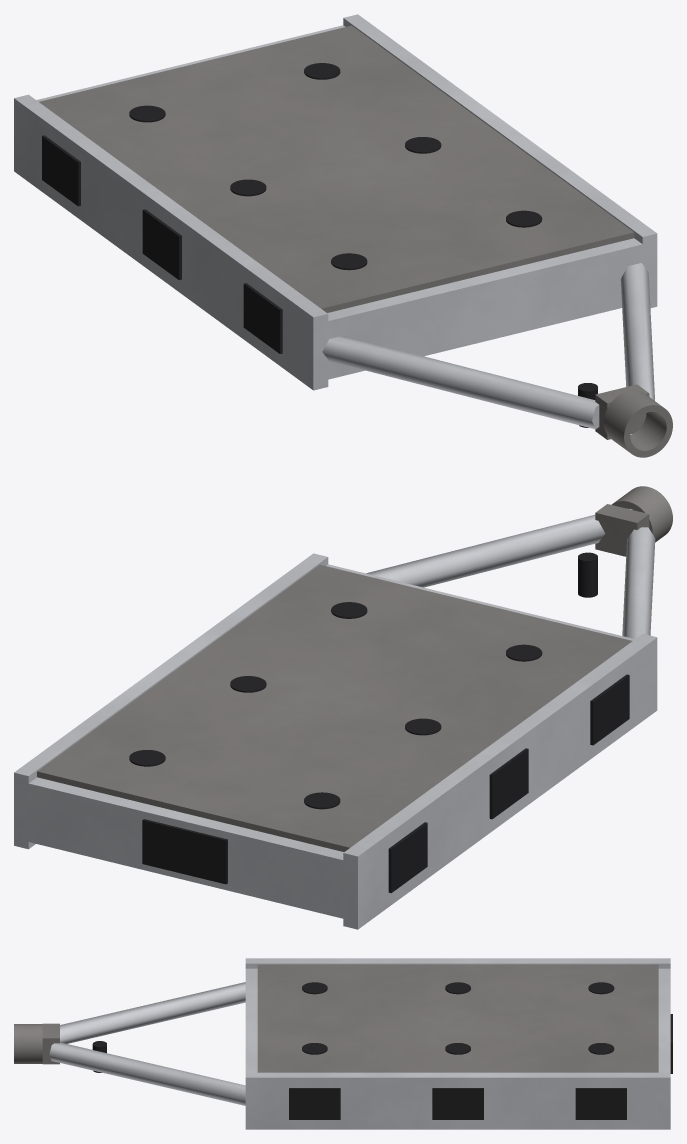
Rendered from rover38_trailer_frame_s.glb.
3 views of the same model, one above another, from view 1: azimuth 30°, elevation 25°; view 2: azimuth 150°, elevation 25°; view 3: azimuth 270°, elevation 25° (orthographic). The views are drawn at different scales.
Visible parts, largest first — view 1: deck_top, rails, end_beams, tongue, hardpoints, hitch_socket, sockets_top; view 2: deck_top, rails, end_beams, tongue, hardpoints, end_hardpoints, hitch_socket, sockets_top, jack_stand; view 3: deck_top, rails, tongue, hardpoints, end_beams, hitch_socket, sockets_top.
Part boxes in pixels (x1=…): deck_top: x1=39, y1=25, x2=634, y2=312; rails: x1=14, y1=14, x2=657, y2=390; end_beams: x1=36, y1=25, x2=642, y2=379; tongue: x1=322, y1=263, x2=654, y2=429; hardpoints: x1=42, y1=135, x2=282, y2=353; hitch_socket: x1=595, y1=384, x2=672, y2=457; sockets_top: x1=129, y1=63, x2=542, y2=270; deck_top: x1=37, y1=564, x2=632, y2=851; rails: x1=14, y1=553, x2=657, y2=929; end_beams: x1=28, y1=564, x2=634, y2=918; tongue: x1=366, y1=514, x2=655, y2=638; hardpoints: x1=388, y1=674, x2=629, y2=893; end_hardpoints: x1=142, y1=819, x2=227, y2=884; hitch_socket: x1=595, y1=486, x2=672, y2=556; sockets_top: x1=129, y1=602, x2=542, y2=809; jack_stand: x1=578, y1=552, x2=597, y2=597; deck_top: x1=257, y1=964, x2=658, y2=1072; rails: x1=245, y1=958, x2=670, y2=1129; tongue: x1=49, y1=982, x2=245, y2=1105; hardpoints: x1=289, y1=1088, x2=626, y2=1119; end_beams: x1=245, y1=968, x2=670, y2=1072; hitch_socket: x1=14, y1=1023, x2=59, y2=1064; sockets_top: x1=302, y1=982, x2=614, y2=1054.
Bounding box in the file's own units: 1 × 0.2 × 2.3.
3 materials, 2 textured.
